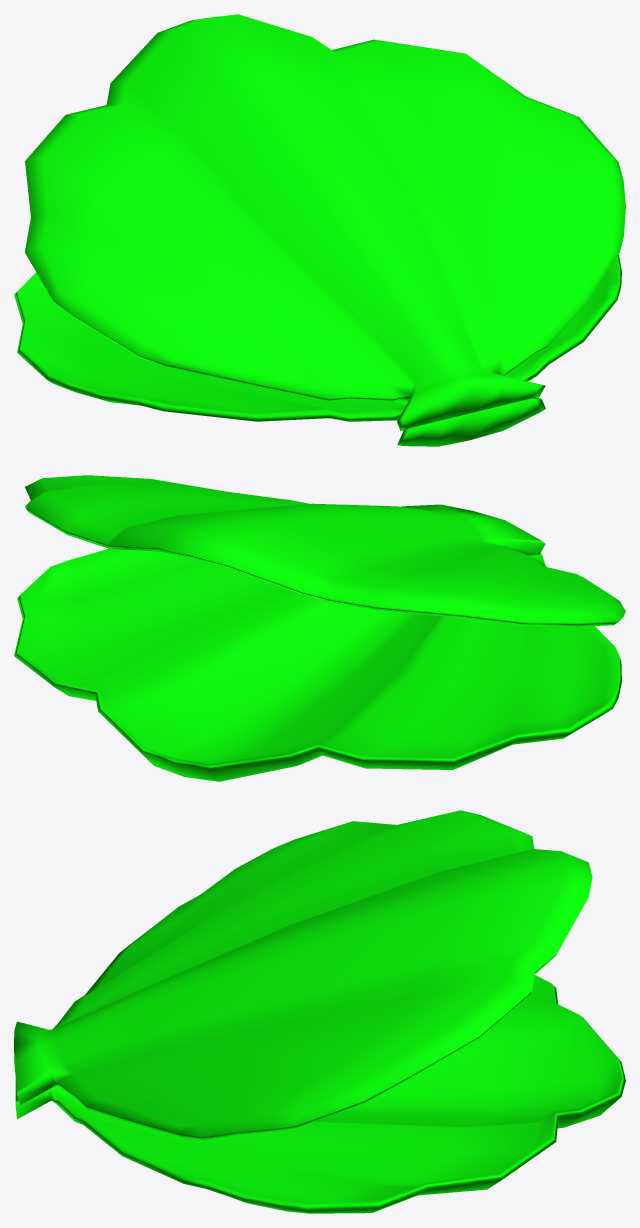
Rendered from Shell_4.fbx.
3 renders of one model, top to bottom at view 1: azimuth 30°, elevation 25°; view 2: azimuth 150°, elevation 25°; view 3: azimuth 270°, elevation 25°, orthographic. The views are drawn at different scales.
Visible parts, largest first — view 1: Shell_4; view 2: Shell_4; view 3: Shell_4.
Boxes of the visible parts, x1,y1,x2,y2 form: Shell_4: (14,14,625,446); Shell_4: (14,475,625,781); Shell_4: (14,810,625,1213).
Bounding box in the file's own units: 60.89 × 24.95 × 55.74.
